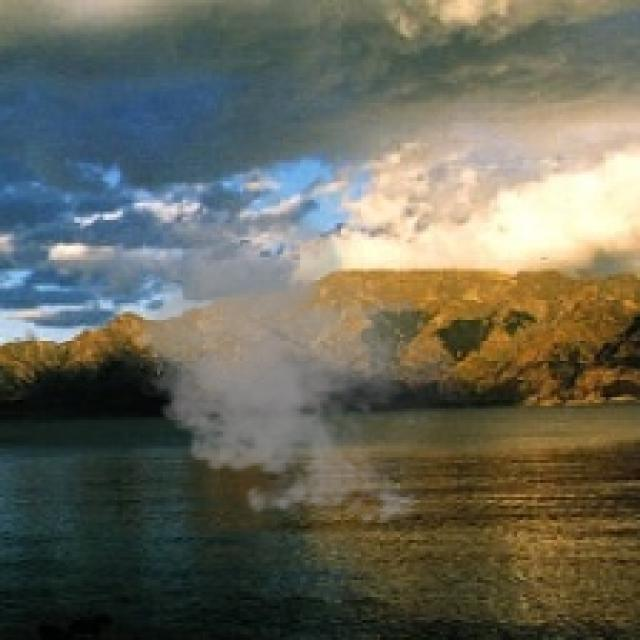smoke: (114, 189, 477, 534)
